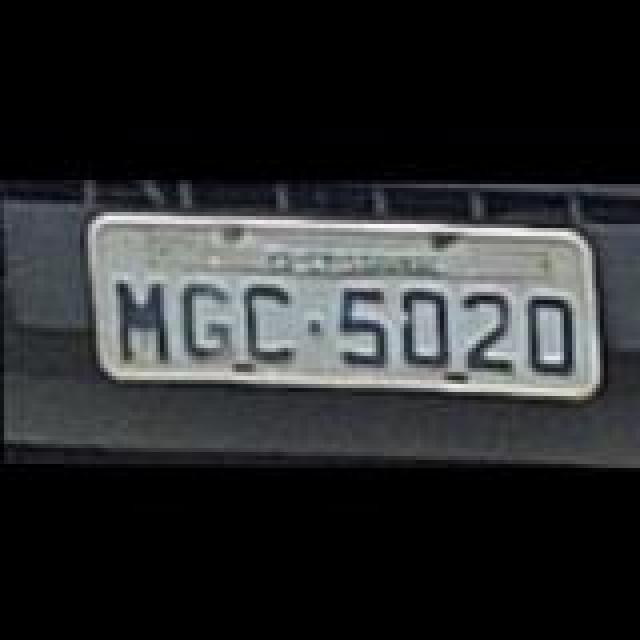2: (460, 286, 520, 366)
5: (334, 282, 398, 362)
C: (240, 280, 300, 364)
D: (398, 286, 462, 366), (524, 290, 584, 374)
G: (172, 278, 232, 358)
M: (114, 278, 178, 362)
